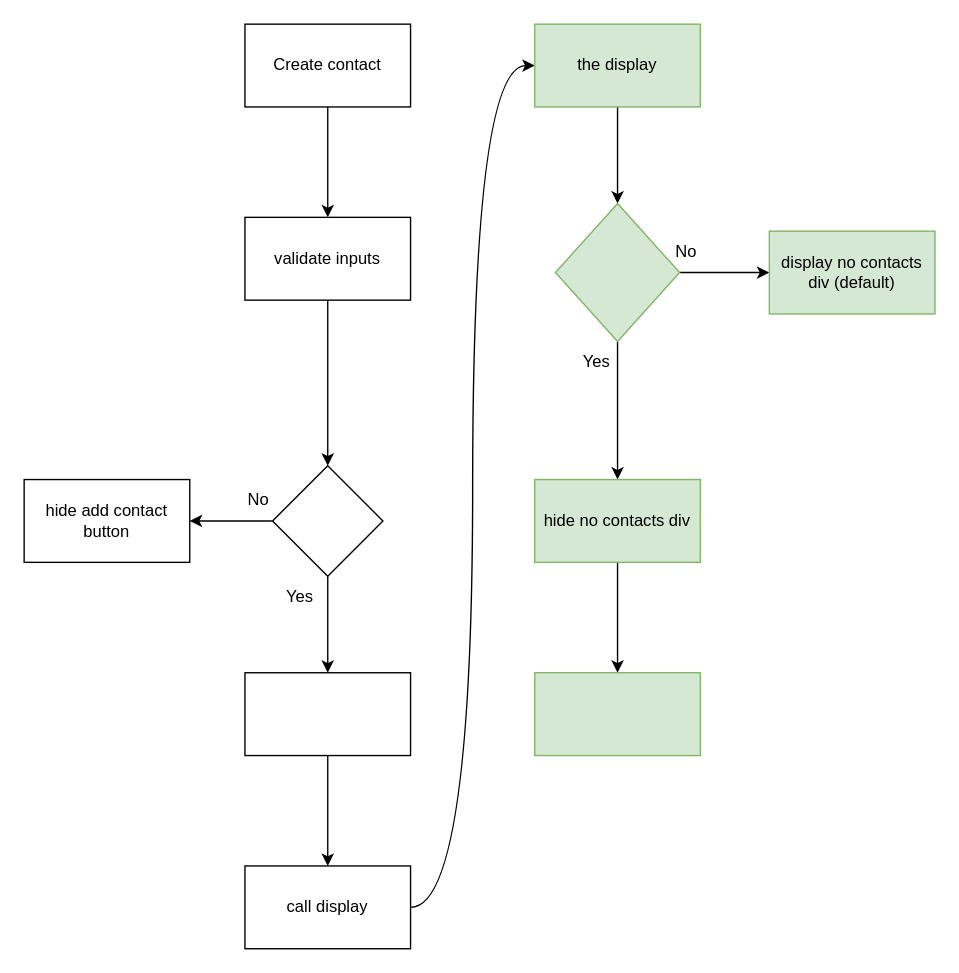
This 959x973 diagram has some shape labels left out. Each missing label, with the centre of its shape:
is data valid?: the point at 327,520
is there any contacts: the point at 617,272
save into local storage: the point at 327,713
show cards in a for loop: the point at 616,713
